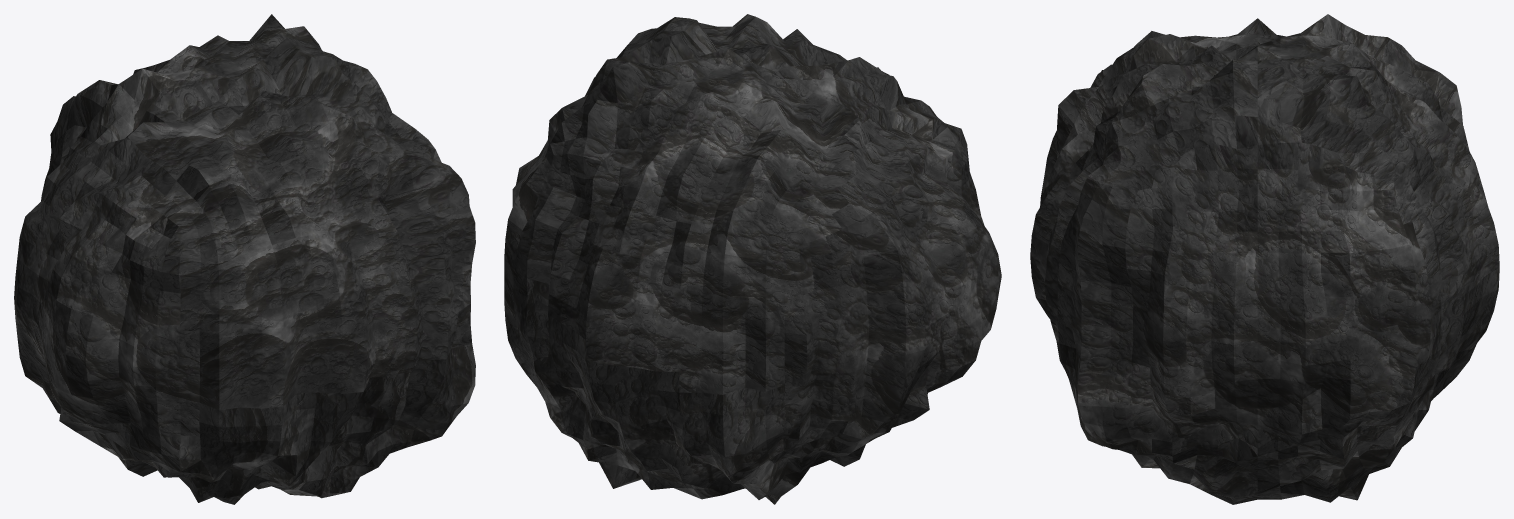
File: asteroid25.obj
The picture shows the model from 3 angles, left to right: view 1: azimuth 30°, elevation 25°; view 2: azimuth 150°, elevation 25°; view 3: azimuth 270°, elevation 25°; orthographic projection. The views are drawn at different scales.
Parts seen in each view (by area): view 1: Cube_Cube.002; view 2: Cube_Cube.002; view 3: Cube_Cube.002.
Part boxes in pixels (<box>): Cube_Cube.002: <box>14,14,475,504</box>; Cube_Cube.002: <box>504,14,1001,504</box>; Cube_Cube.002: <box>1030,14,1499,504</box>.
Bounding box in the file's own units: 1.75 × 1.77 × 1.71.
